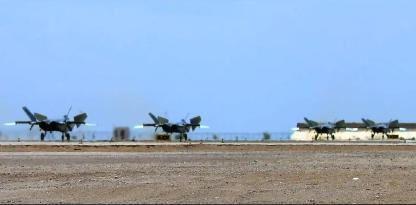F4: (3, 105, 97, 139), (133, 111, 209, 139), (290, 115, 358, 139), (356, 117, 406, 138)
